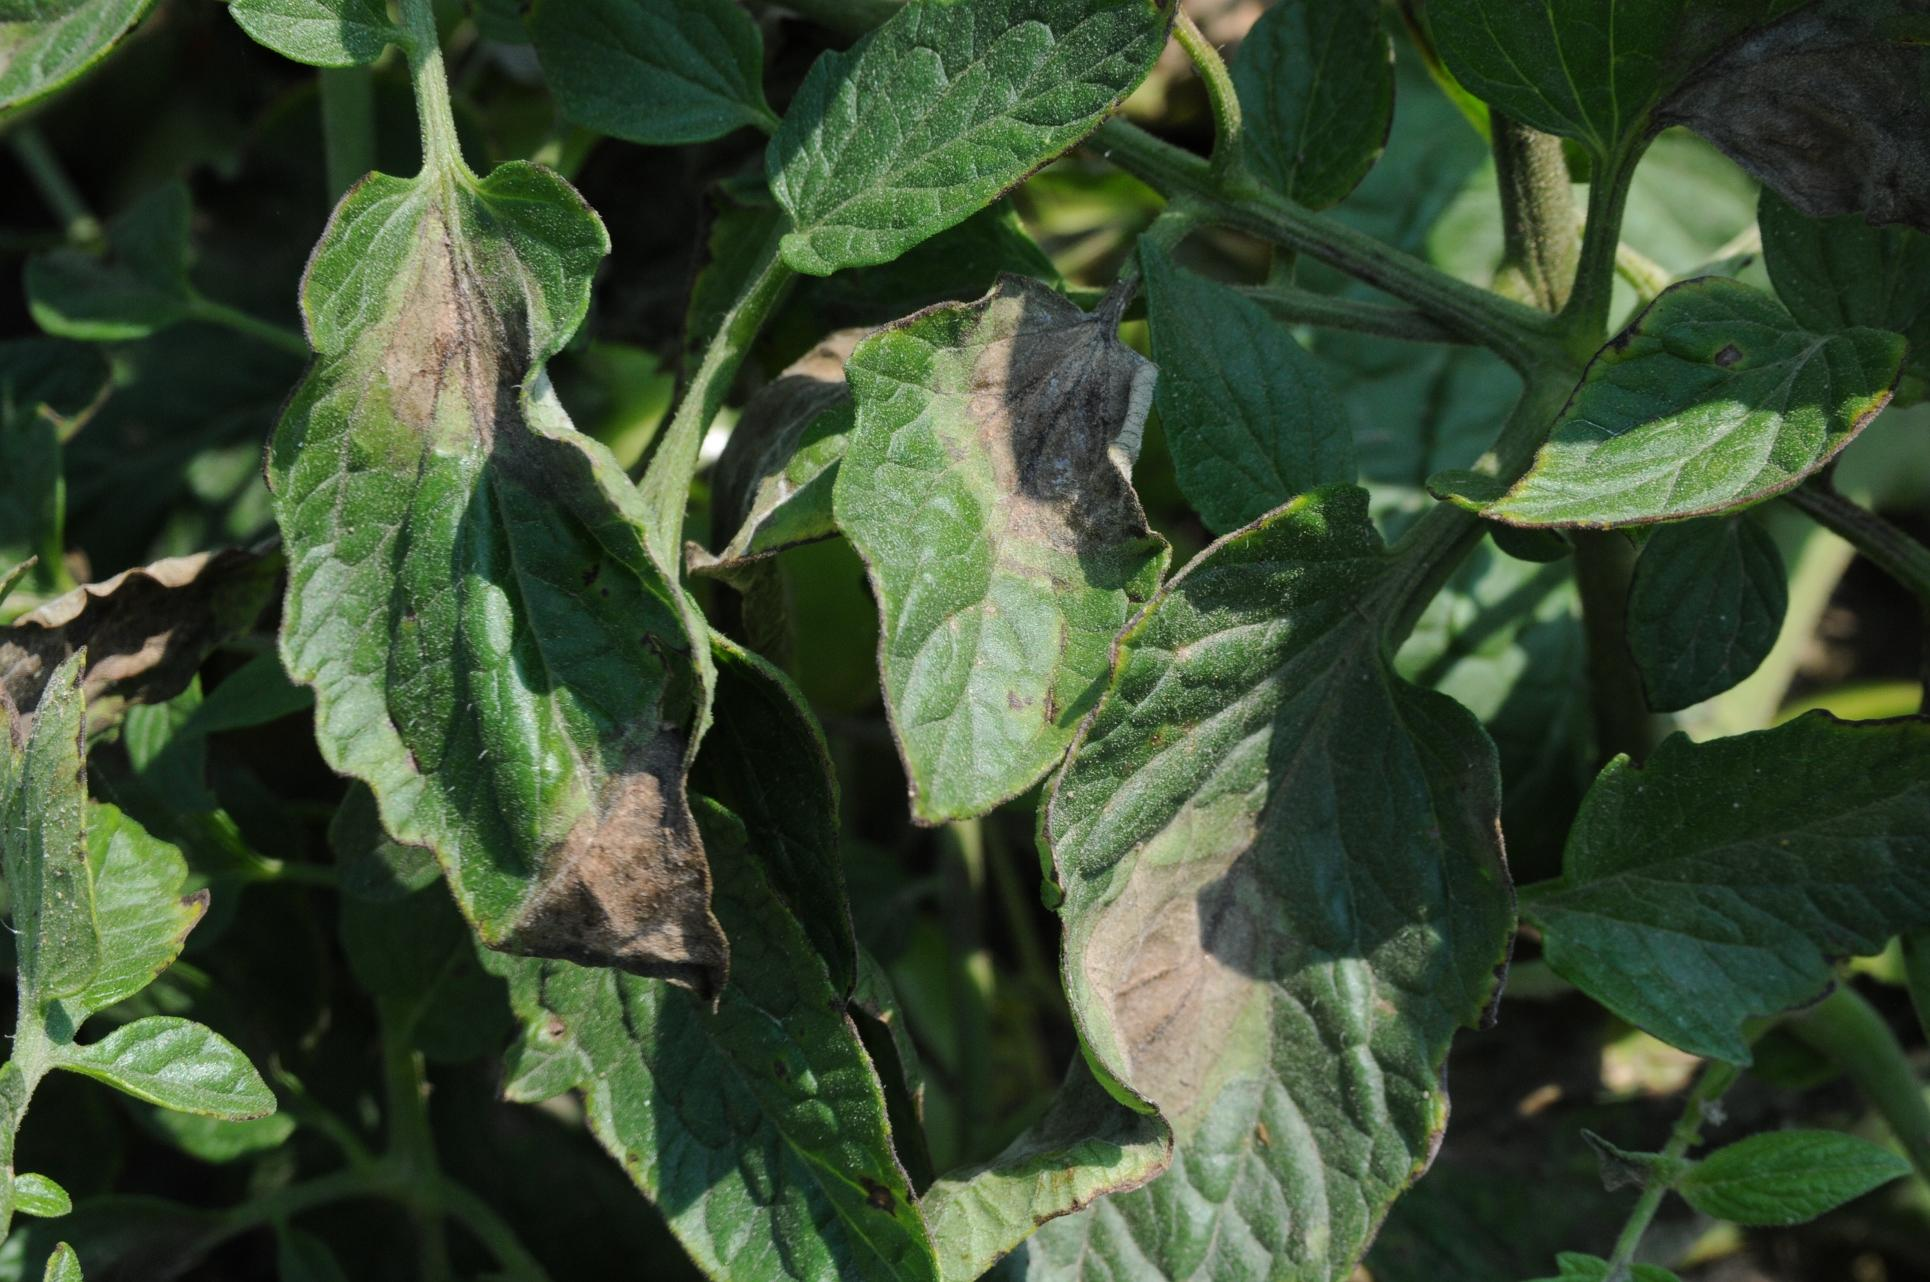Potato leaf: (245, 152, 743, 1027), (1039, 628, 1537, 1176), (815, 272, 1167, 840)
